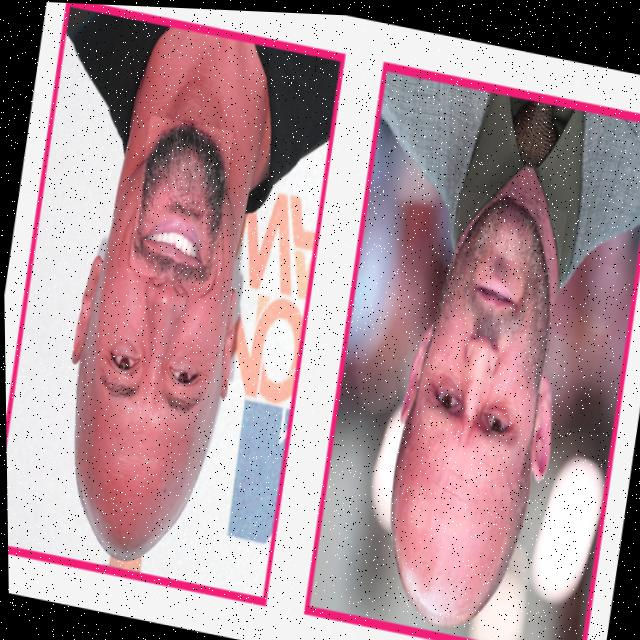beard: (431, 194, 552, 388), (132, 122, 225, 281)
